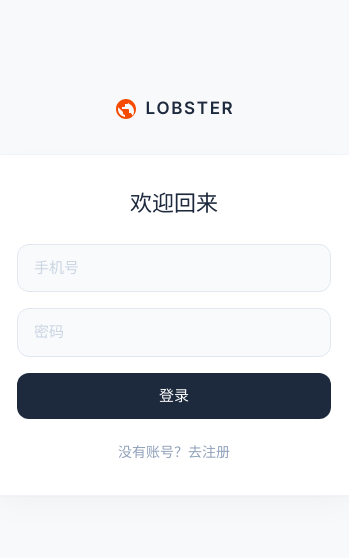
Test: LoginPage › shows local validation error for mismatched passwords
Click the button "没有账号？去注册". click: (174, 452)
box: [118,441,230,462]
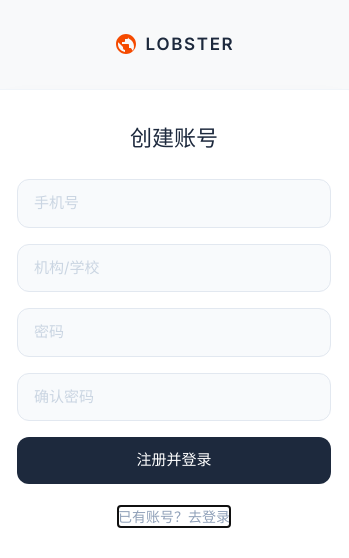
Type "13800138000" into the field with placeholder "手机号". click: (174, 203)
box: [17,179,331,228]
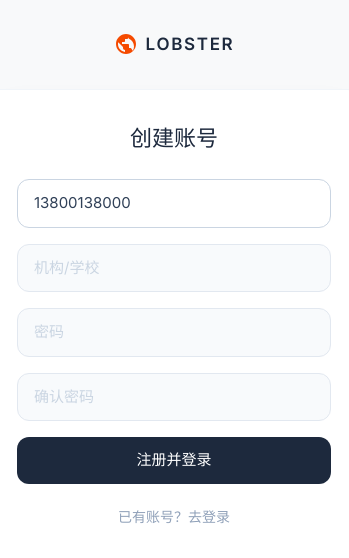
Type "Test University" into the field with placeholder "机构/学校". click: (174, 268)
box: [17,244,331,292]
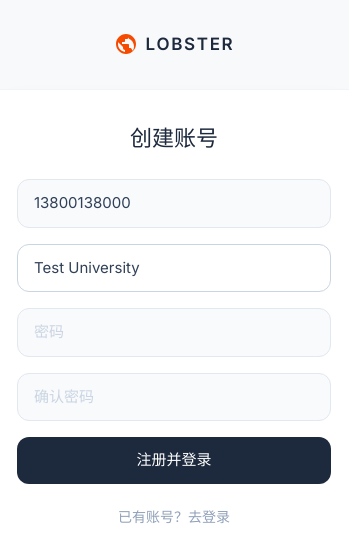
Type "secret123" into the password field with placeholder "密码". click: (174, 332)
box: [17,308,331,356]
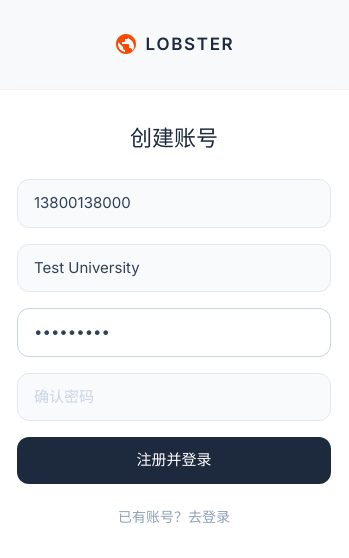
Type "secret456" into the password field with placeholder "确认密码". click: (174, 397)
box: [17,372,331,421]
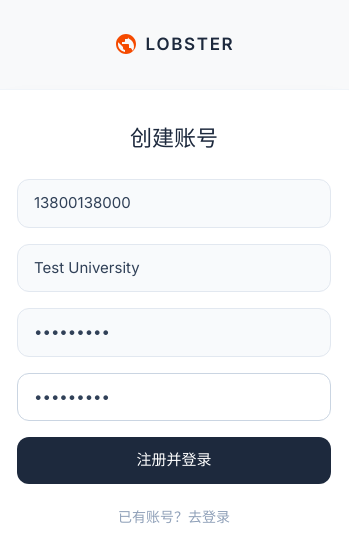
Click the button "注册并登录". click: (174, 460)
box: [17,437,331,484]
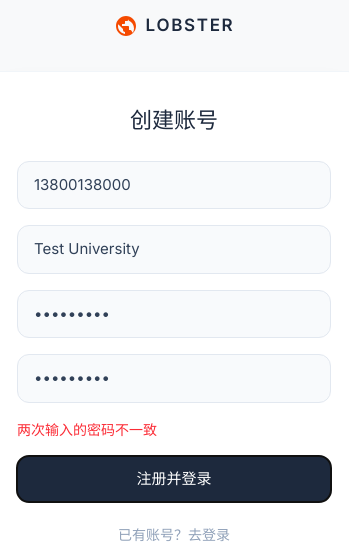
Check: the text "两次输入的密码不一致" is shown, box [17,420,157,438]
